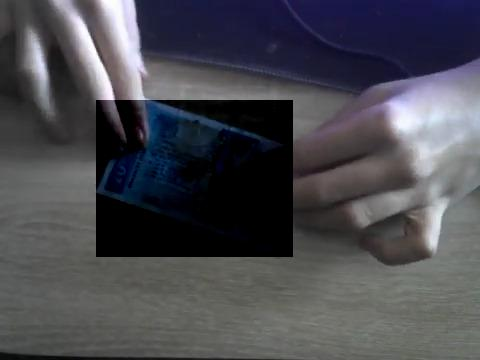20leva: (96, 100, 293, 257)
